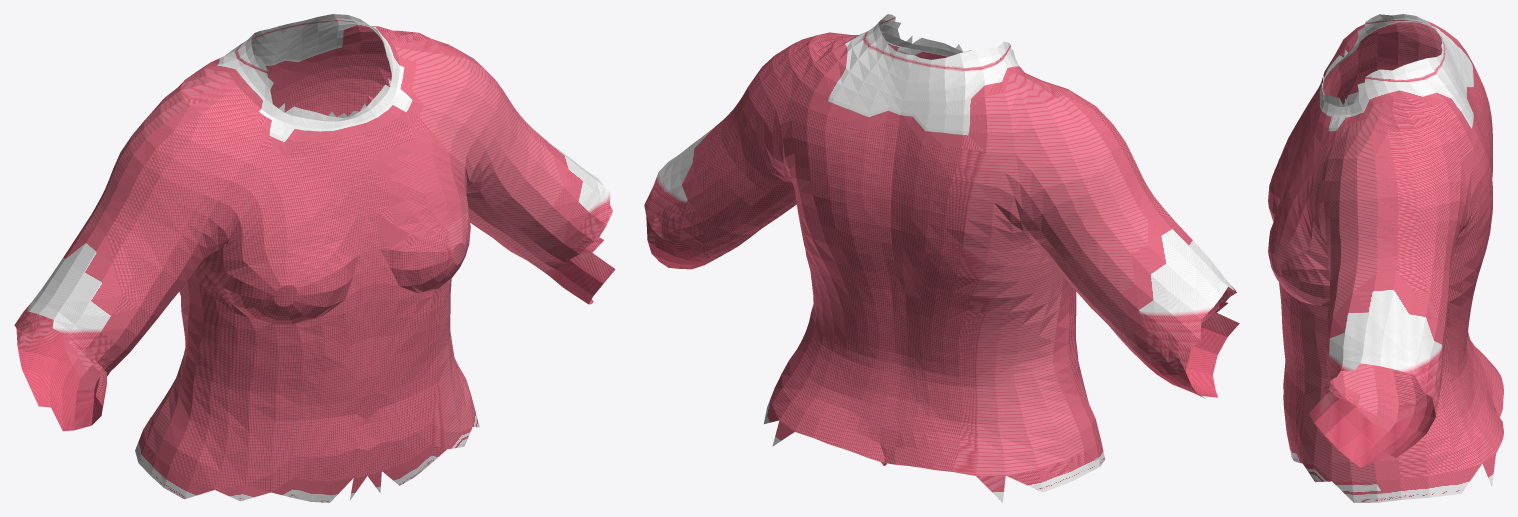
Rendered from TSH-WW-CREW-001_L.glb.
The picture shows the model from 3 angles, left to right: view 1: azimuth 30°, elevation 25°; view 2: azimuth 150°, elevation 25°; view 3: azimuth 270°, elevation 25°; orthographic projection. The views are drawn at different scales.
Parts seen in each view (by area): view 1: geometry_0; view 2: geometry_0; view 3: geometry_0.
Boxes of the visible parts, x1,y1,x2,y2 form: geometry_0: (14, 14, 615, 502); geometry_0: (644, 14, 1239, 502); geometry_0: (1268, 14, 1503, 502).
Size of the model in its own units: 0.7018 by 0.505 by 0.2667.
1 material, 1 textured.
